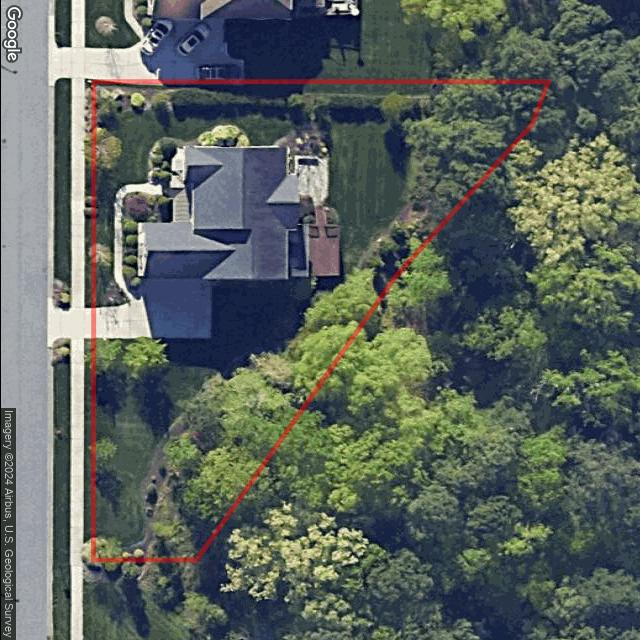Driveway: (91, 279, 209, 339)
Extra-Driveway: (51, 307, 92, 344)
Extra-Lawn: (52, 77, 71, 311), (51, 338, 69, 564), (83, 81, 95, 309), (83, 339, 93, 561)
Extra-Sidewalk: (69, 338, 83, 562), (71, 78, 84, 308)
House: (137, 141, 305, 280)
Lawn: (92, 81, 546, 562)
Other: (88, 82, 546, 563), (120, 193, 171, 299), (272, 130, 327, 206), (304, 207, 340, 276), (194, 124, 249, 147), (146, 137, 173, 183), (94, 129, 121, 168)
Sidewalk: (113, 184, 162, 302)
